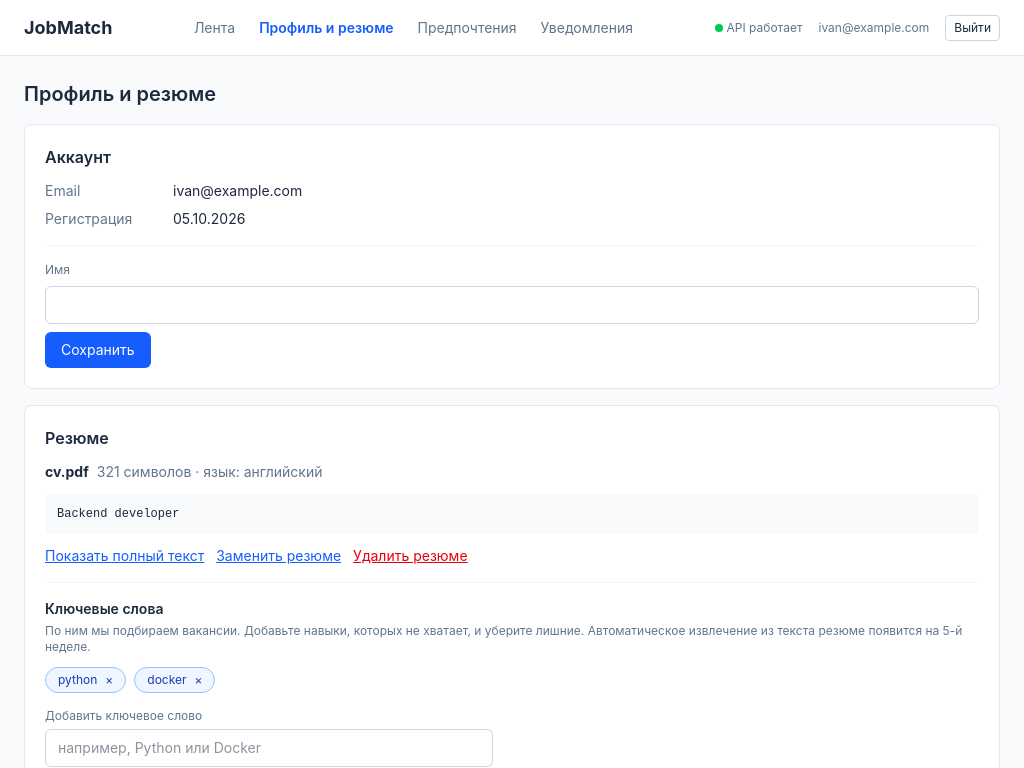
Test case: ключевые слова › сохраняет слова и показывает ответ сервера
Expected: the dropdown labelled "Добавить ключевое слово" is shown, [45, 729, 493, 767]
Click the button named "Удалить docker" at (198, 680), box [194, 674, 202, 686]
(page scrolled)
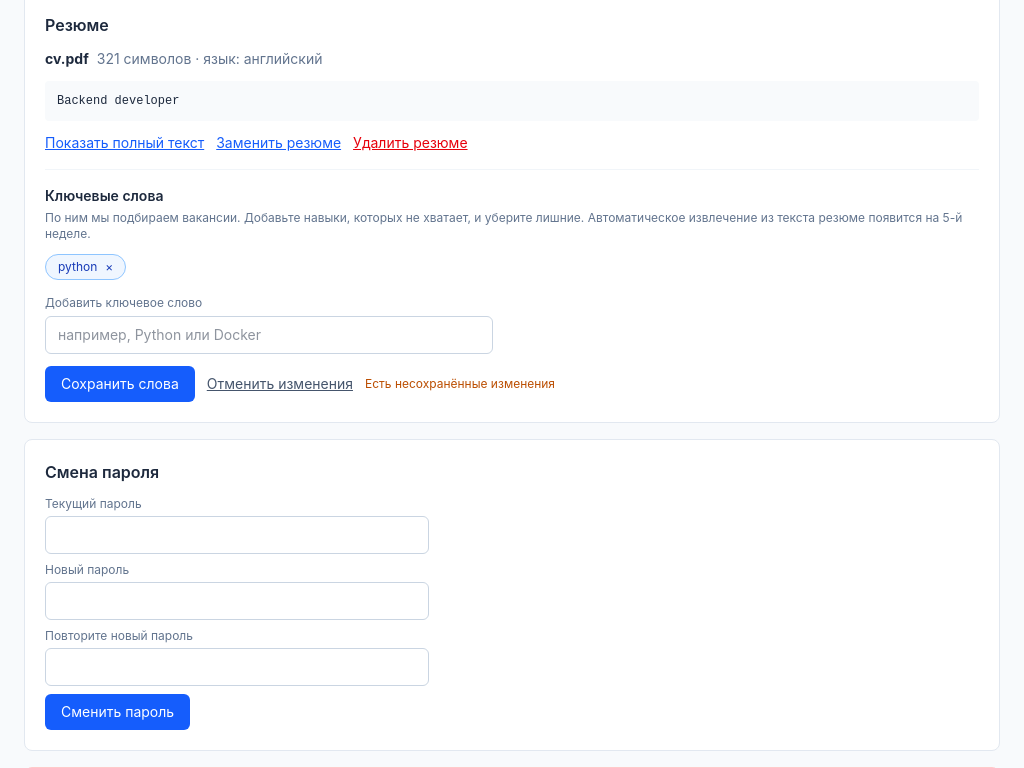
Click the button "Сохранить слова" at (120, 384), box [45, 366, 195, 402]
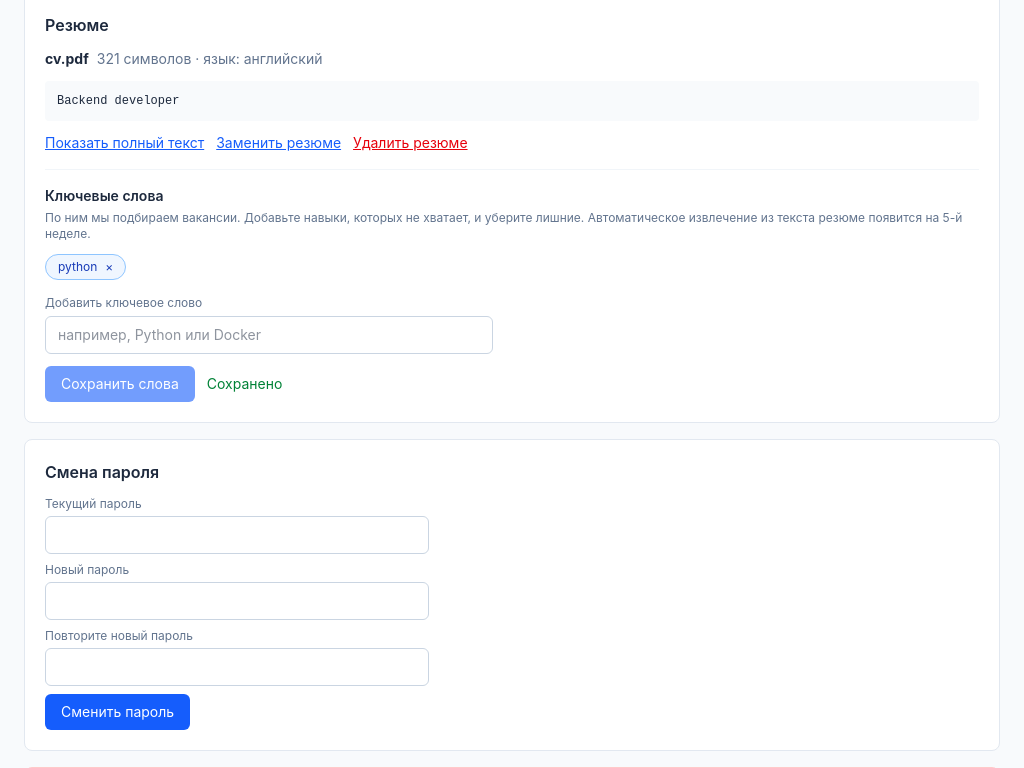
Result: the message reads "Сохранено" at [207, 375, 282, 392]
Result: the button "Сохранить слова" is disabled at [45, 366, 195, 402]
